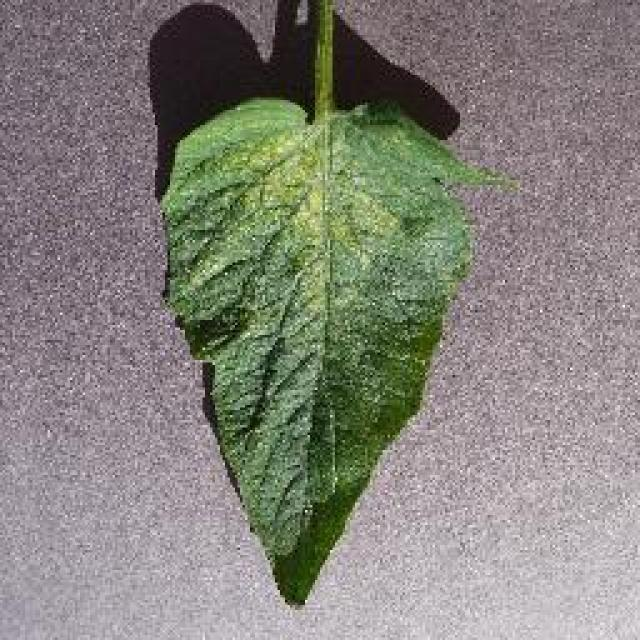Tomato___Spider_mites Two-spotted_spider_mite: (160, 0, 510, 605)
